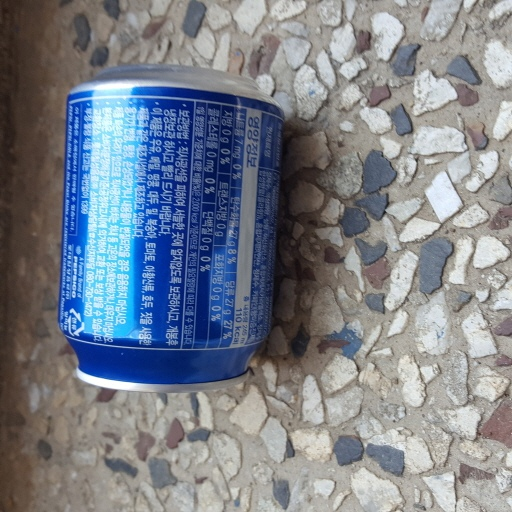Metal_0: (57, 65, 285, 390)
